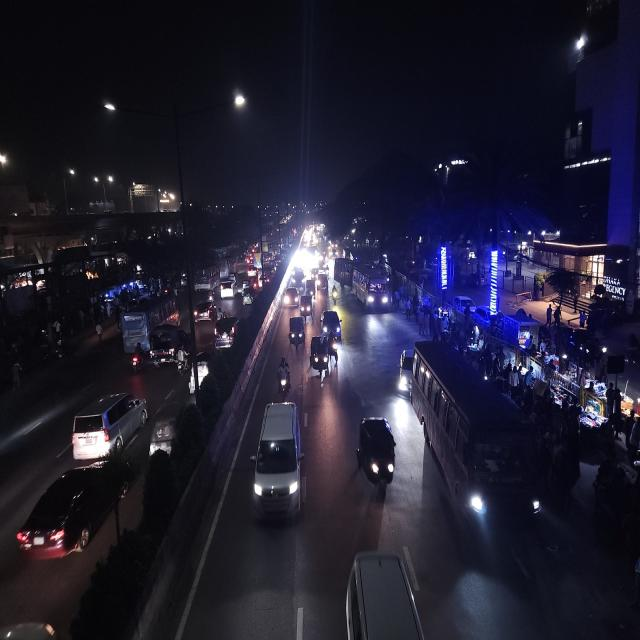bus: (414, 340, 544, 554), (569, 0, 623, 63), (119, 295, 180, 350), (351, 260, 393, 316), (193, 265, 217, 292), (333, 259, 352, 285)
car: (19, 462, 109, 571), (341, 546, 430, 640), (252, 397, 304, 528), (67, 387, 149, 461), (150, 393, 191, 460), (150, 321, 187, 366), (0, 616, 65, 640), (213, 312, 242, 351), (393, 346, 412, 404), (319, 307, 343, 344), (191, 291, 216, 323), (219, 274, 237, 299), (284, 286, 299, 308), (241, 286, 255, 308)
cng: (354, 412, 398, 500), (150, 394, 185, 459), (309, 332, 330, 382), (286, 313, 306, 354), (299, 294, 313, 320)
motorcycle: (275, 354, 292, 397), (130, 339, 149, 376), (330, 284, 340, 308)
